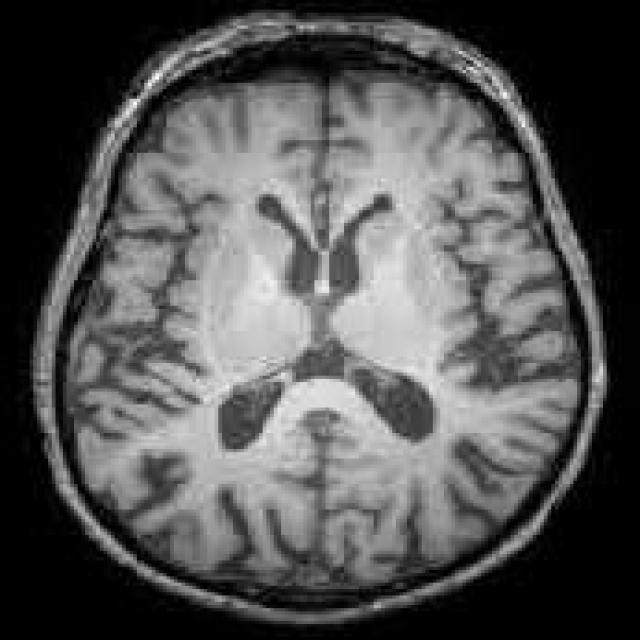no-tumor: (170, 148, 494, 501)
